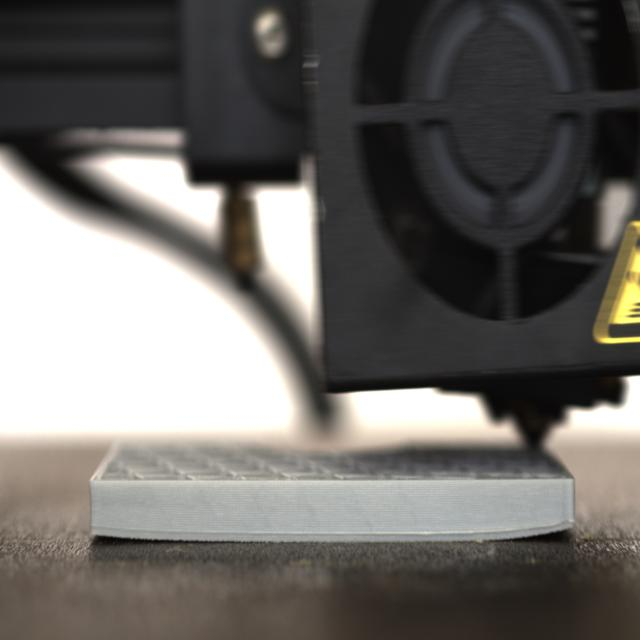Warping: (510, 515, 579, 548)
